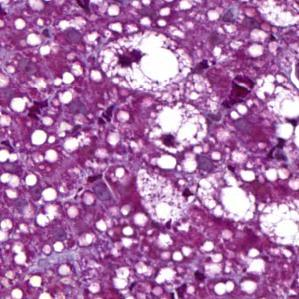ballooning: (96, 29, 192, 96), (147, 101, 210, 156), (136, 167, 194, 225)
